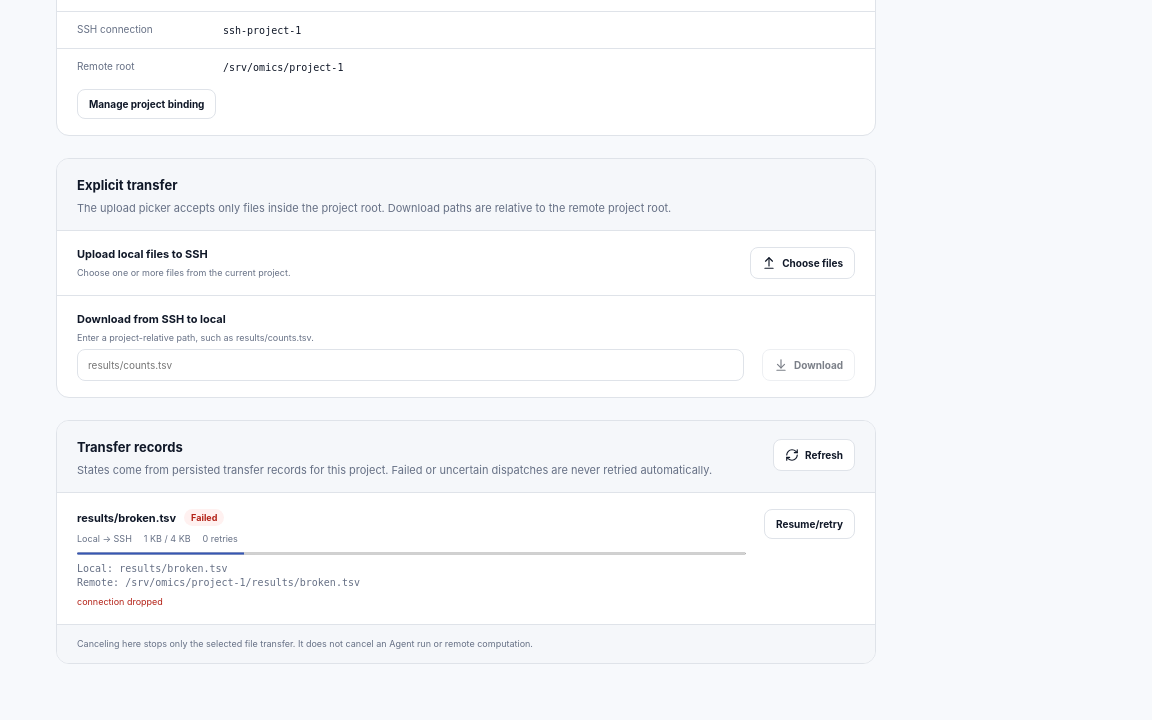
Test: RemoteAccessSettings › does not let an older refresh overwrite a successful retry
(page scrolled)
Expected: the text "Failed" is shown, [184,509,224,526]
Click the button with aria-label "Refresh transfer records": [814, 455] box [773,439,855,471]
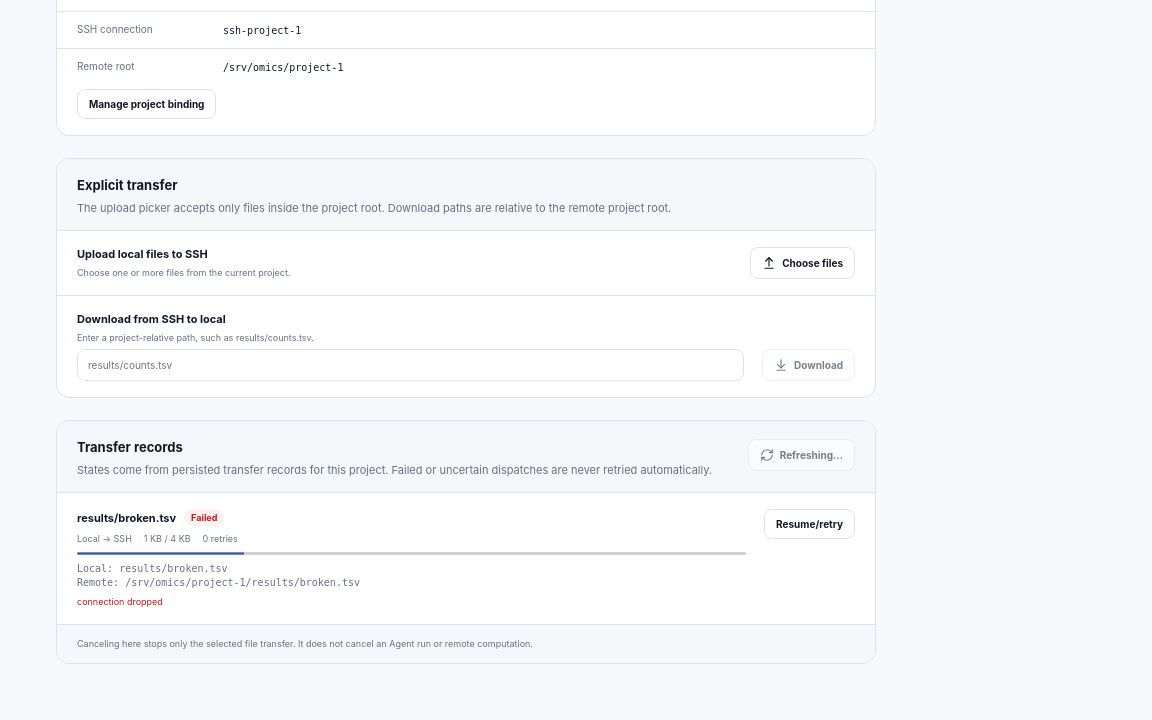
Click the button with aria-label "Retry results/broken.tsv": [810, 524] box [764,509,855,539]
(page scrolled)
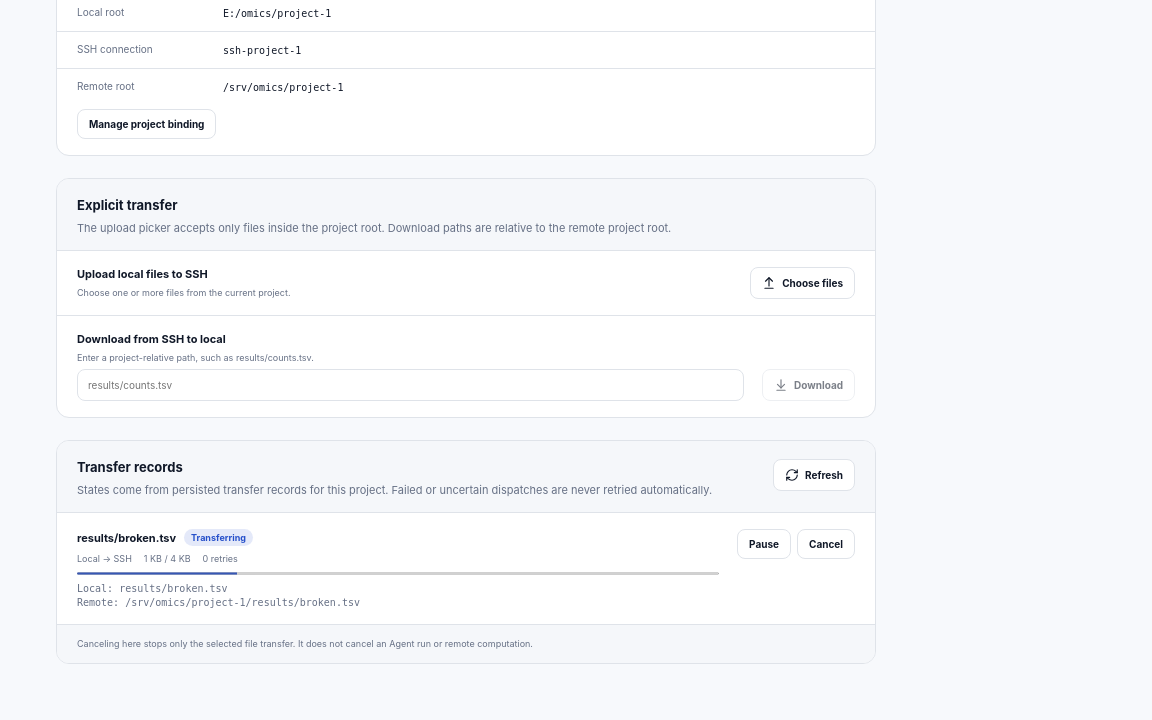
Expected: the text "Transferring" is shown, [184,529,253,546]
